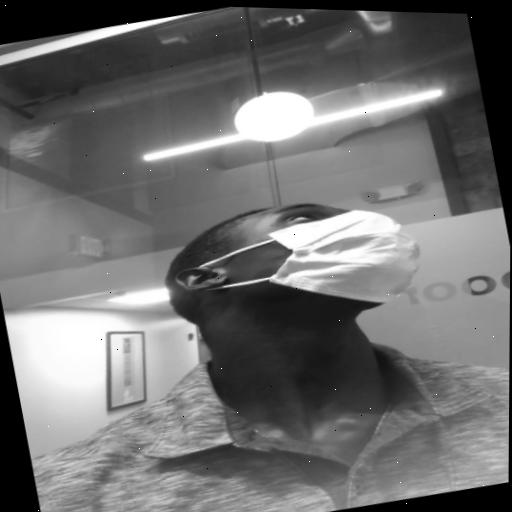mask: (160, 177, 427, 344)
